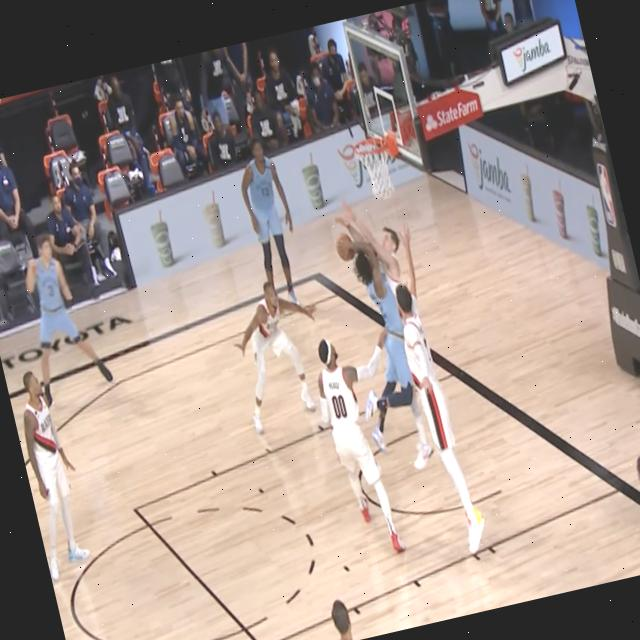foul: (320, 180, 470, 487)
no foul: (372, 269, 496, 571), (296, 328, 424, 570)
